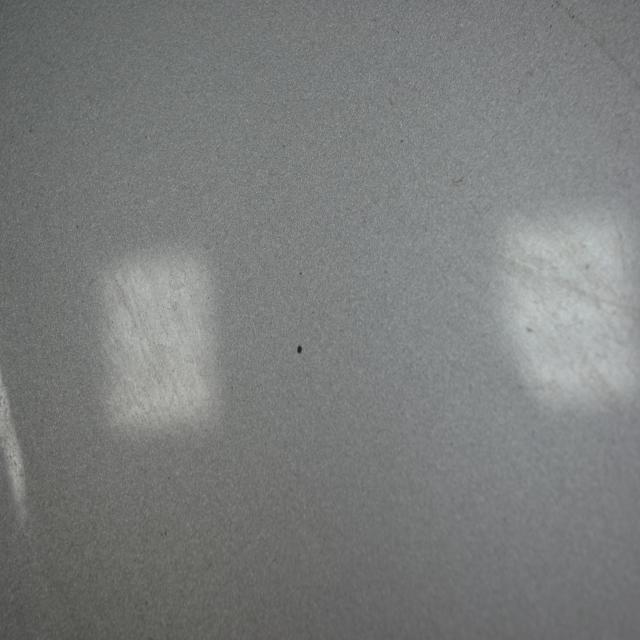dirt: (296, 341, 303, 356)
scratch: (550, 0, 639, 94)
water marks: (505, 223, 640, 408), (89, 265, 212, 430)
